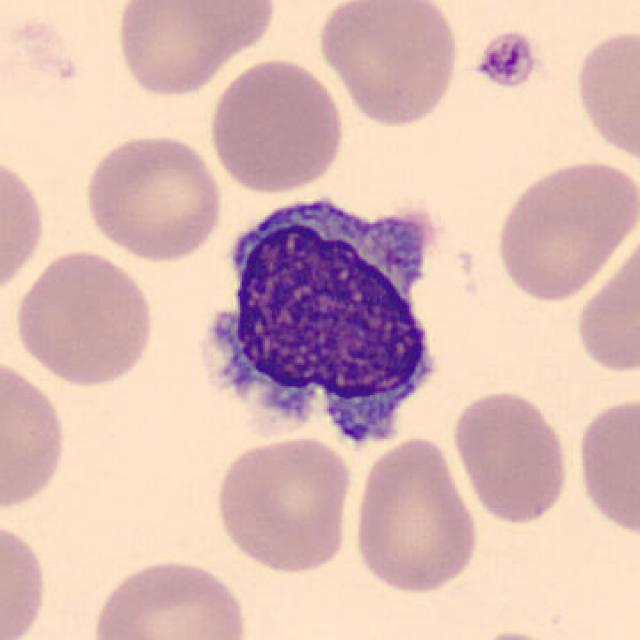Lymphocyte: (188, 180, 458, 464)
Platelets: (473, 30, 539, 92)
RBC: (348, 434, 484, 596), (492, 155, 636, 305), (11, 245, 158, 390), (210, 434, 356, 576), (204, 56, 348, 194), (313, 0, 464, 130), (80, 130, 224, 262), (450, 386, 572, 527), (110, 0, 279, 99), (87, 553, 252, 640), (0, 352, 71, 516), (570, 225, 640, 379), (572, 392, 638, 542), (571, 23, 638, 167), (0, 146, 48, 305), (0, 515, 52, 640)
